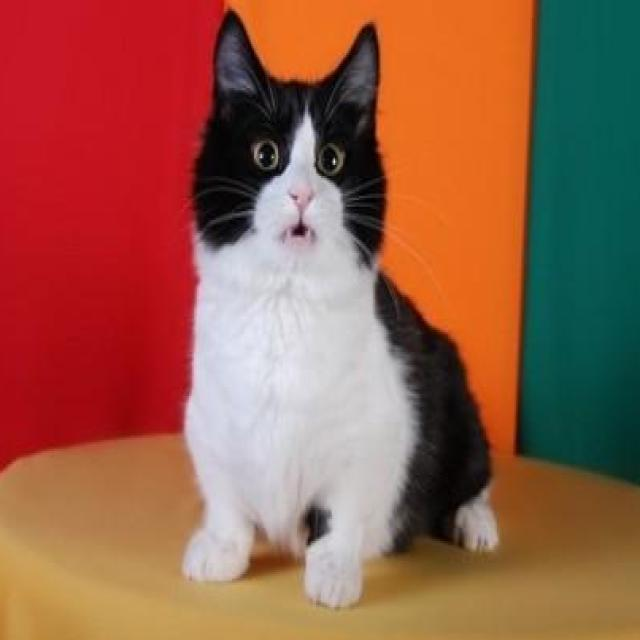Munchkin: (177, 3, 502, 615)
